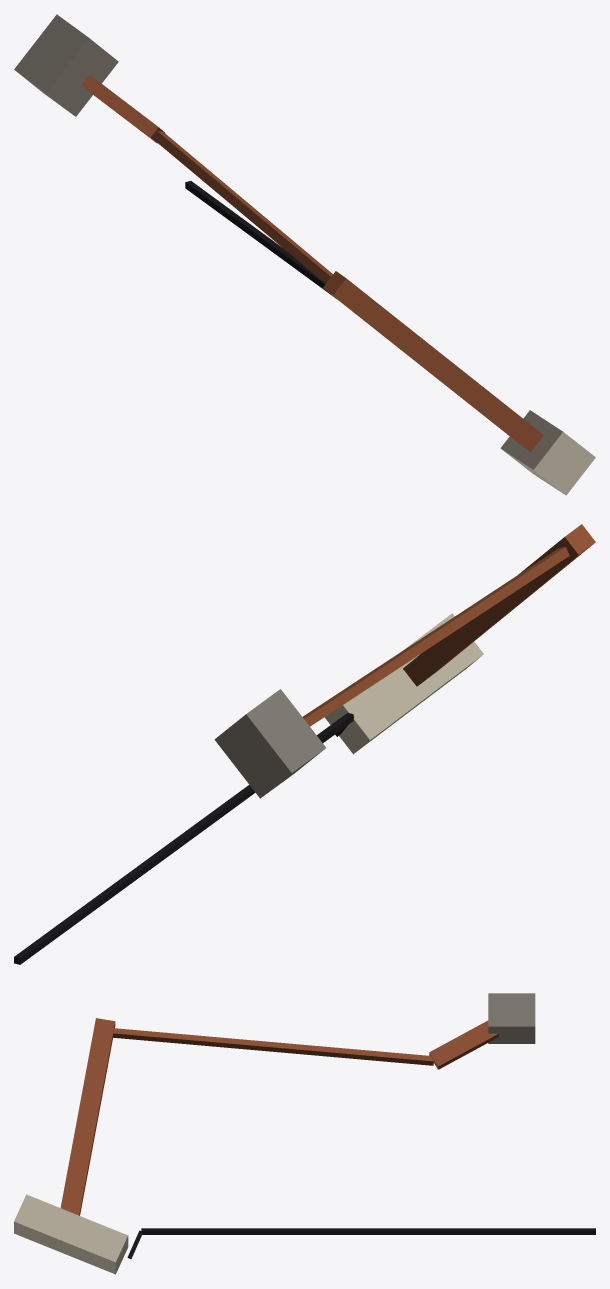
The picture shows the model from 3 angles, top to bottom: view 1: azimuth 30°, elevation 25°; view 2: azimuth 150°, elevation 25°; view 3: azimuth 270°, elevation 25°; orthographic projection. The views are drawn at different scales.
Parts seen in each view (by area): view 1: t00_g29_p2; view 2: t00_g29_p2; view 3: t00_g29_p2.
Boxes of the visible parts, <box> form: t00_g29_p2: <box>14,14,595,495</box>; t00_g29_p2: <box>14,524,595,964</box>; t00_g29_p2: <box>14,993,595,1274</box>.
Size of the model in its own units: 11.17 by 12.07 by 29.69.
